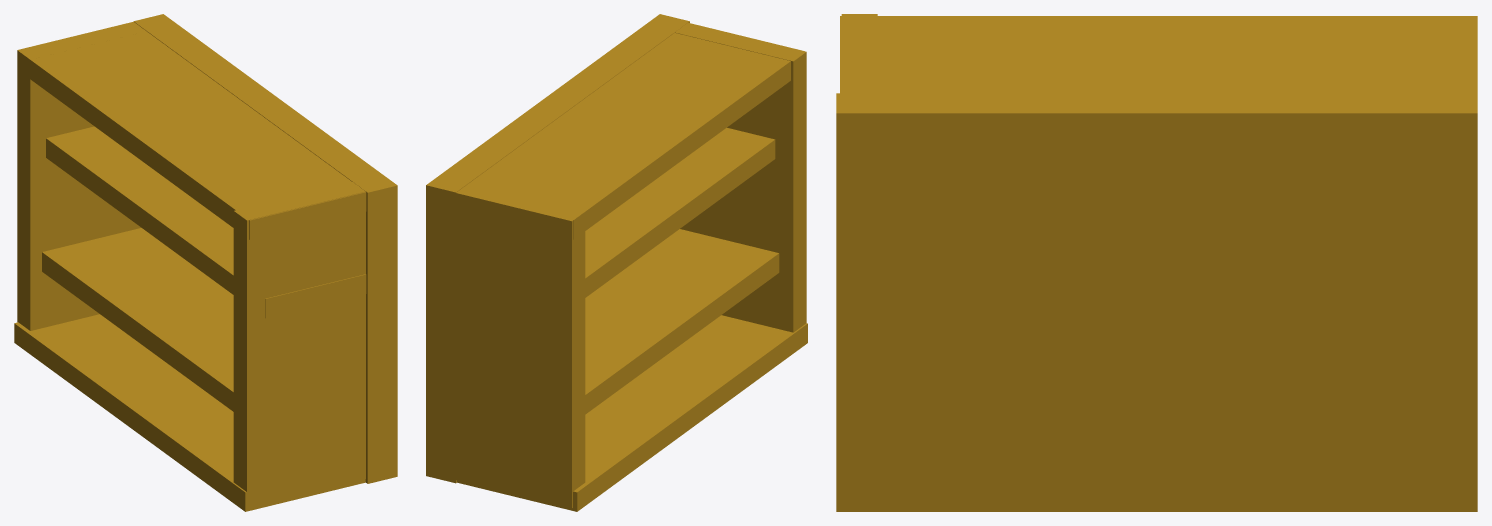
Rendered from bookshelf.fbx.
The picture shows the model from 3 angles, left to right: view 1: azimuth 30°, elevation 25°; view 2: azimuth 150°, elevation 25°; view 3: azimuth 270°, elevation 25°; orthographic projection. The views are drawn at different scales.
Visible parts, largest first — view 1: Cube.003, Cube.004, Cube.006, Cube, Cube.001, Cube.002, Cube.005; view 2: Cube.002, Cube.004, Cube.006, Cube, Cube.003, Cube.001, Cube.005; view 3: Cube.001, Cube.004, Cube.003, Cube.002.
Boxes of the visible parts, x1,y1,x2,y2 form: Cube.003: (233, 182, 365, 507); Cube.004: (19, 31, 366, 239); Cube.006: (42, 228, 233, 411); Cube: (14, 314, 365, 511); Cube.001: (133, 14, 397, 483); Cube.002: (17, 21, 145, 330); Cube.005: (46, 126, 366, 318); Cube.002: (452, 183, 585, 508); Cube.004: (469, 23, 804, 239); Cube.006: (585, 229, 779, 414); Cube: (457, 315, 807, 511); Cube.003: (675, 23, 806, 332); Cube.001: (426, 14, 689, 483); Cube.005: (585, 128, 775, 297); Cube.001: (836, 93, 1477, 511); Cube.004: (840, 16, 1441, 93); Cube.003: (841, 14, 877, 93); Cube.002: (1441, 16, 1477, 93).
Bounding box in the file's own units: 250 × 463 × 674.
